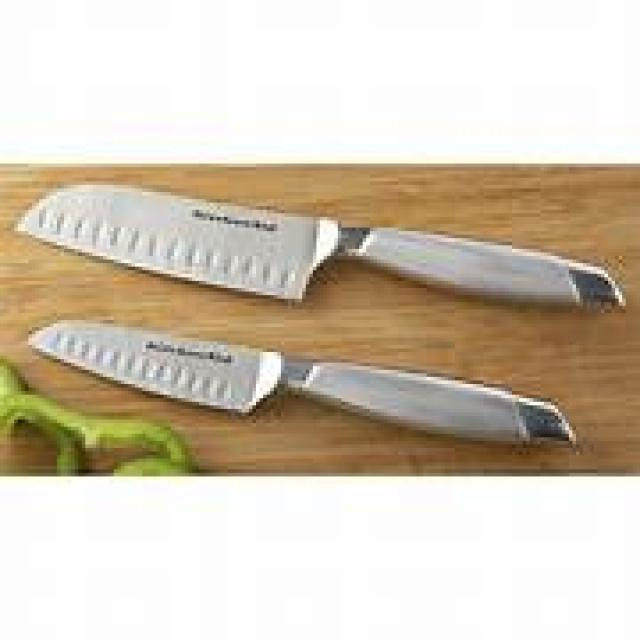Knife: (18, 185, 619, 299), (28, 320, 569, 434)
